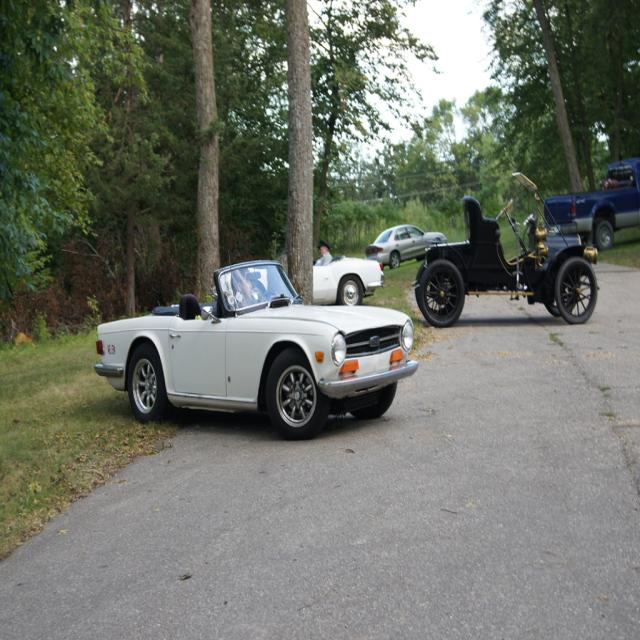car: (93, 249, 423, 436), (411, 172, 597, 335)
